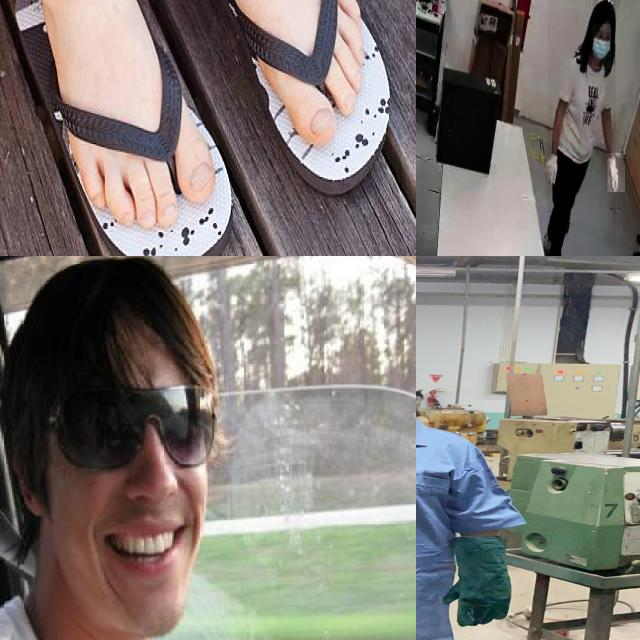Sandals: (15, 0, 405, 256)
face_mask: (593, 24, 611, 68)
face_nomask: (48, 387, 210, 579)
glasses: (8, 362, 215, 516)
hand_glove: (436, 571, 524, 628), (545, 142, 559, 198), (608, 153, 626, 193), (567, 602, 570, 607)
head_nohelmet: (11, 256, 210, 367), (592, 0, 615, 23)
person: (416, 347, 529, 640), (547, 0, 616, 256)
